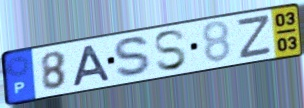8: (200, 19, 237, 66), (38, 49, 68, 92)
A: (71, 43, 113, 88)
S: (111, 35, 155, 80), (151, 27, 189, 73)
Z: (237, 12, 274, 61)
